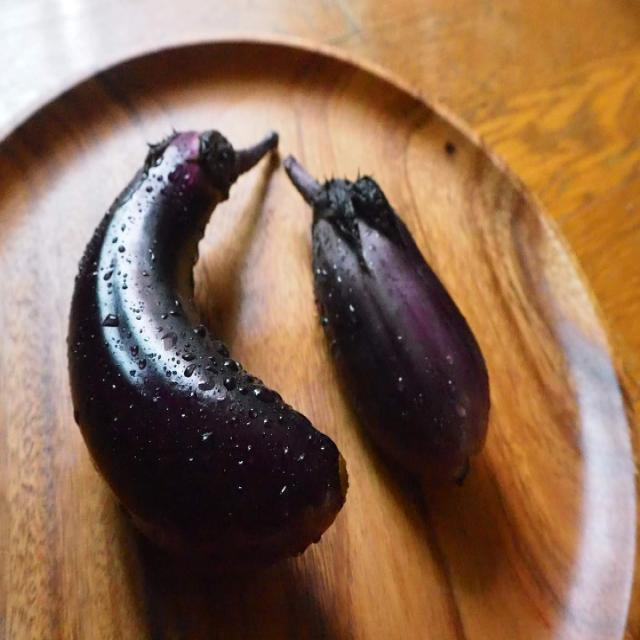eggplant: (26, 110, 352, 584), (304, 146, 508, 515)
